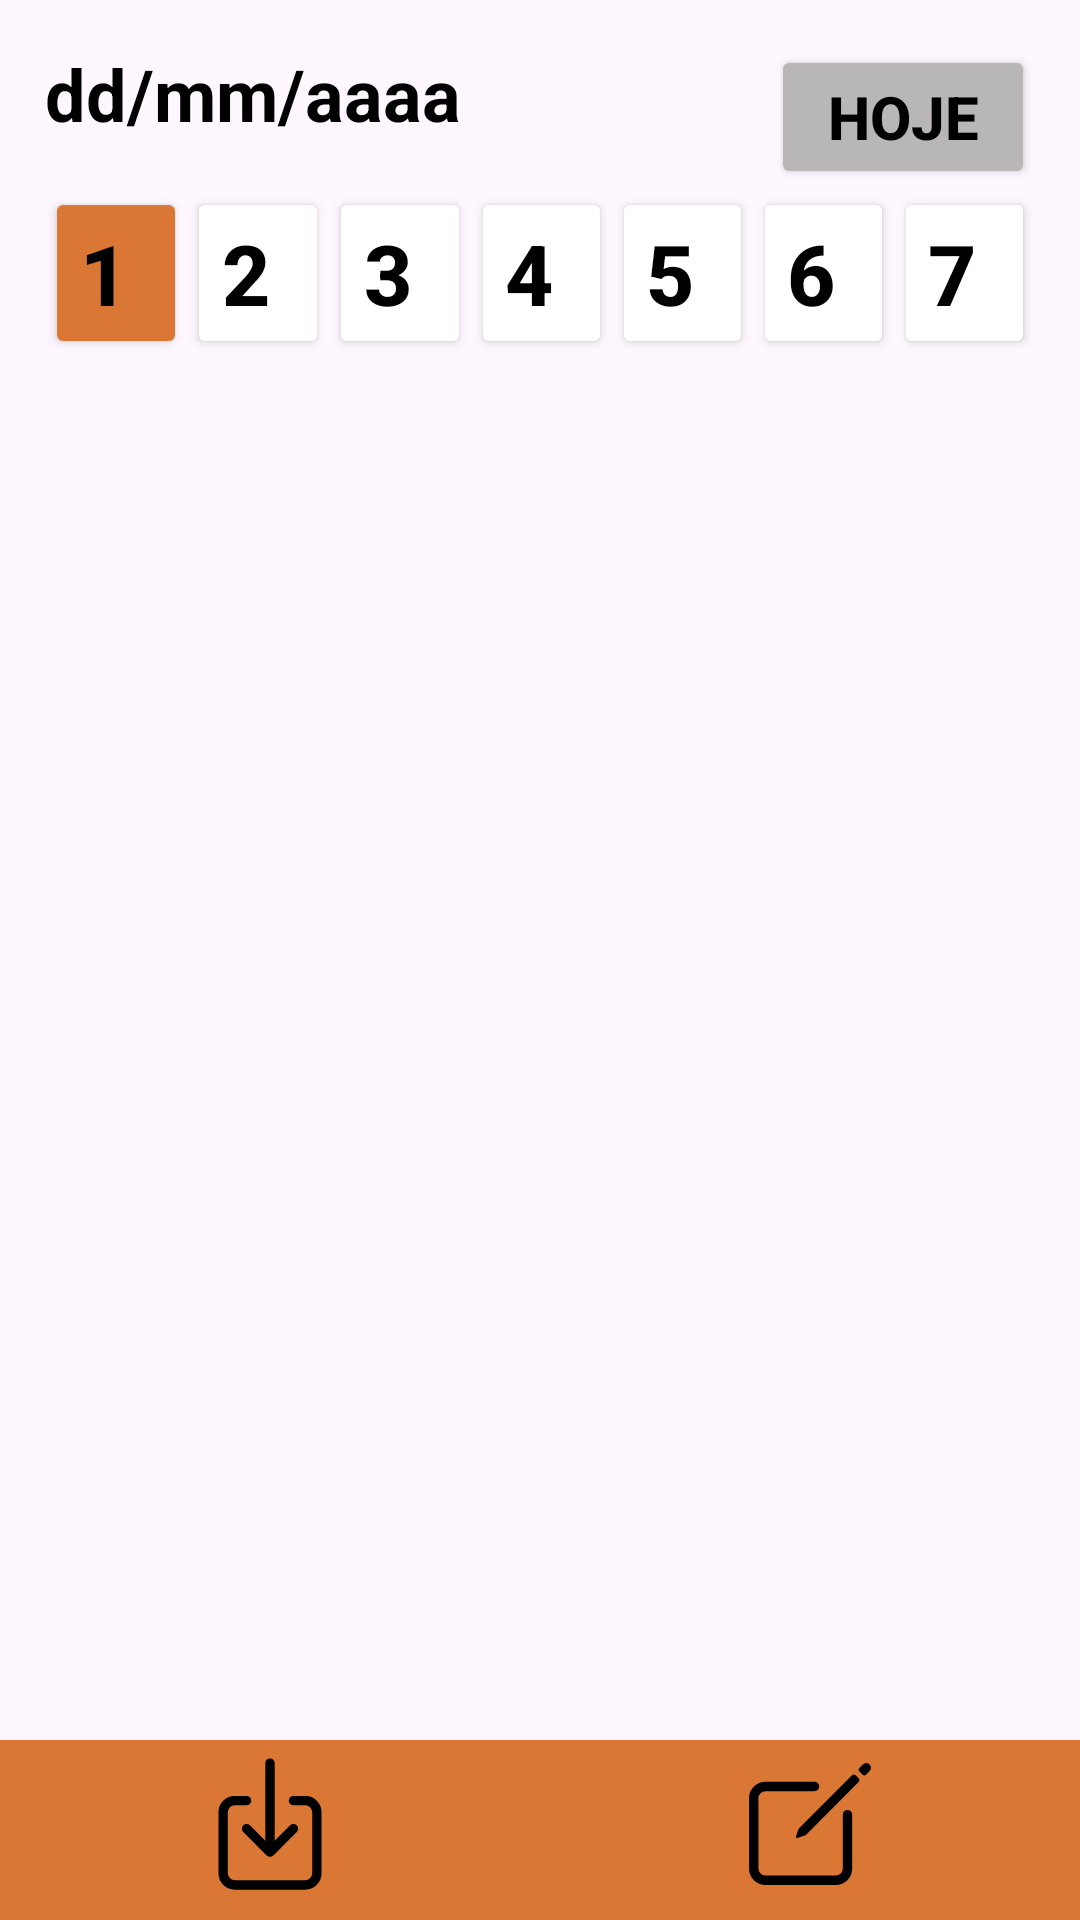

Screen size 1080 x 1920. Icon name, then its box in pixels as bbox(x1, y1, x2, y2):
create: bbox(749, 1763, 871, 1885)
download: bbox(218, 1758, 322, 1890)
